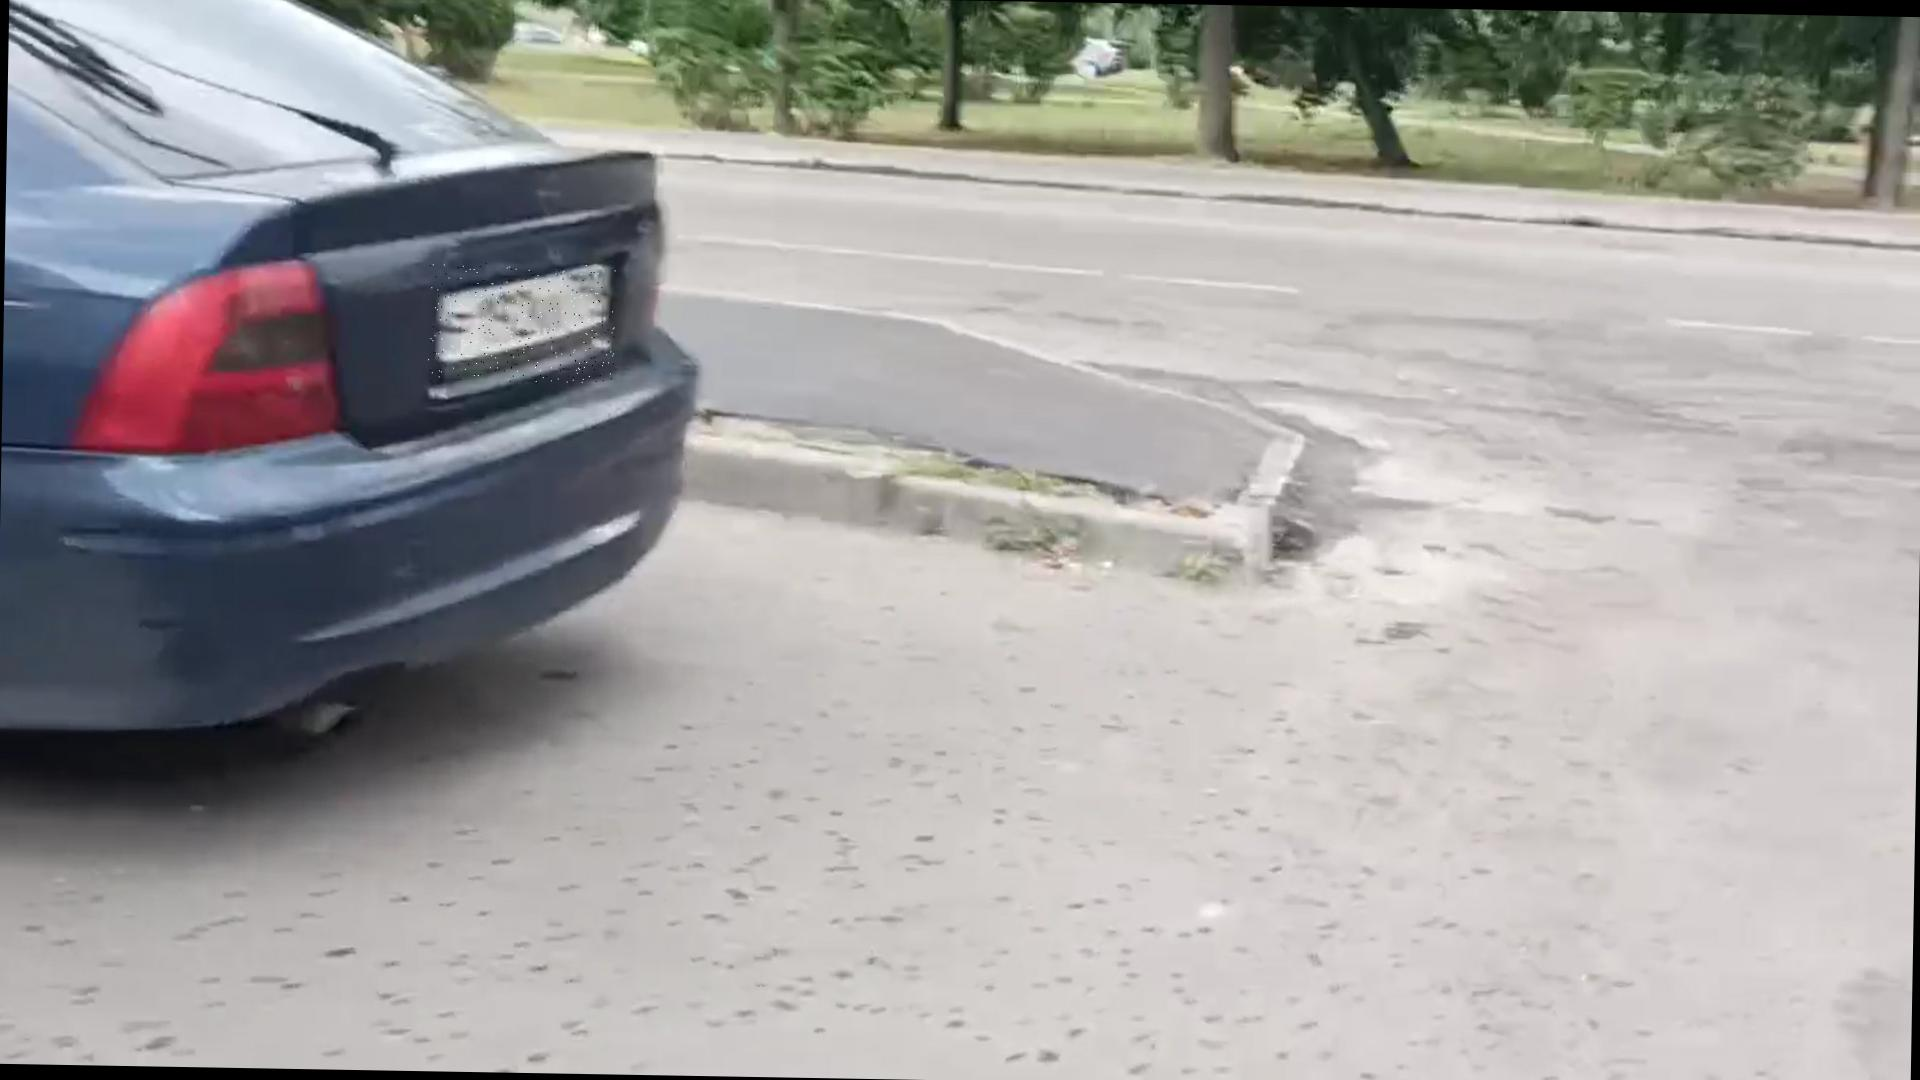plate: (429, 264, 617, 386)
